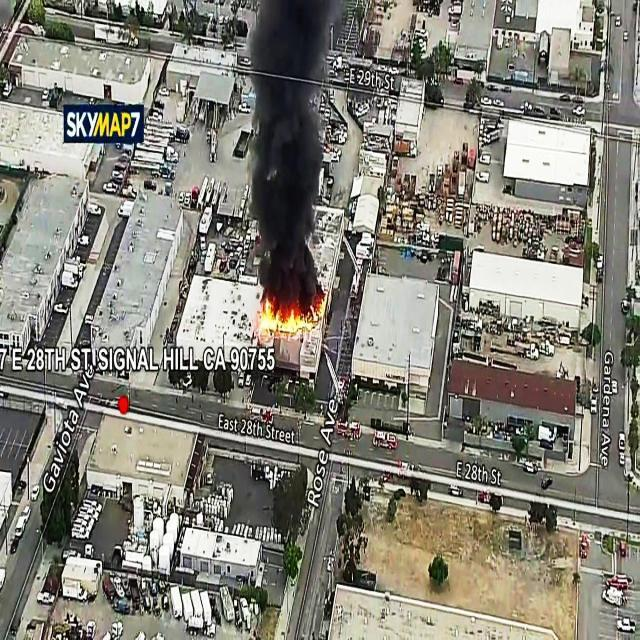Fire: (254, 296, 316, 334)
Smoke: (263, 0, 316, 296)
